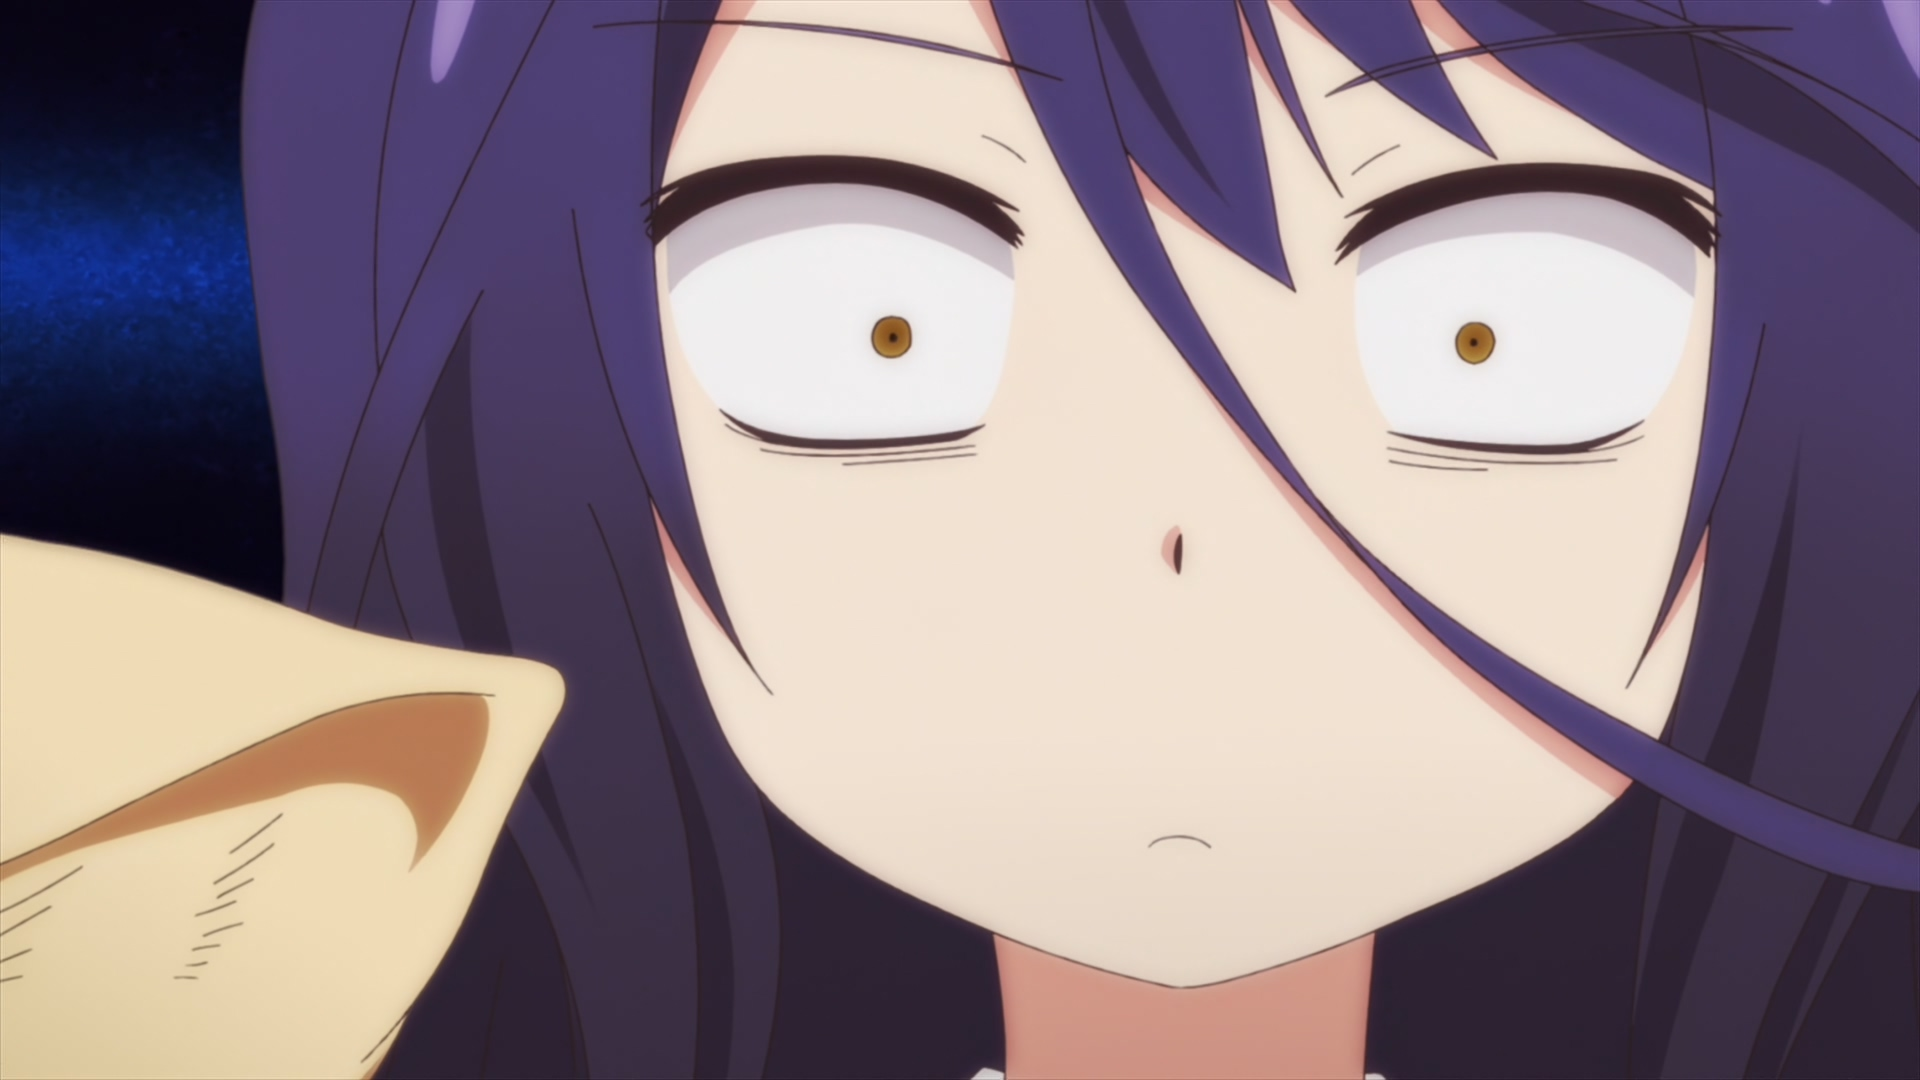皋: (237, 1, 1920, 1080)
